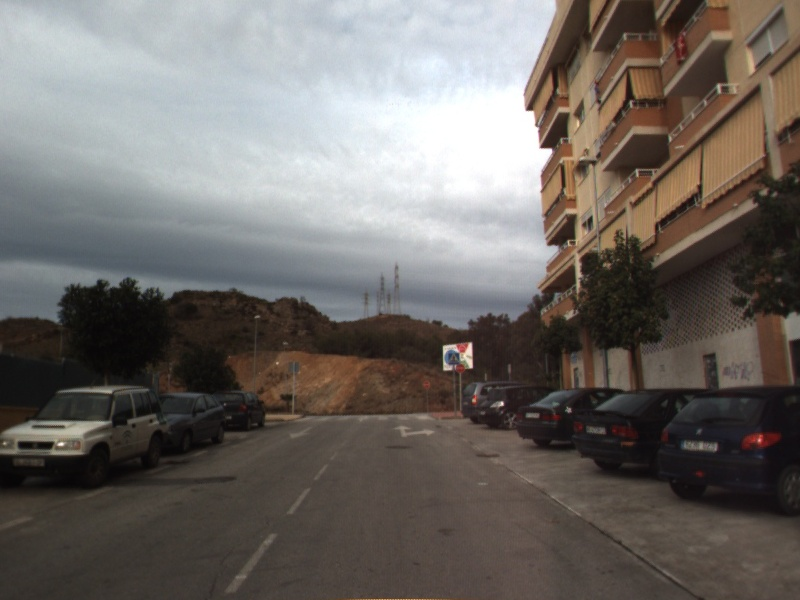STRAIGHT_RIGHT: (391, 423, 437, 439)
